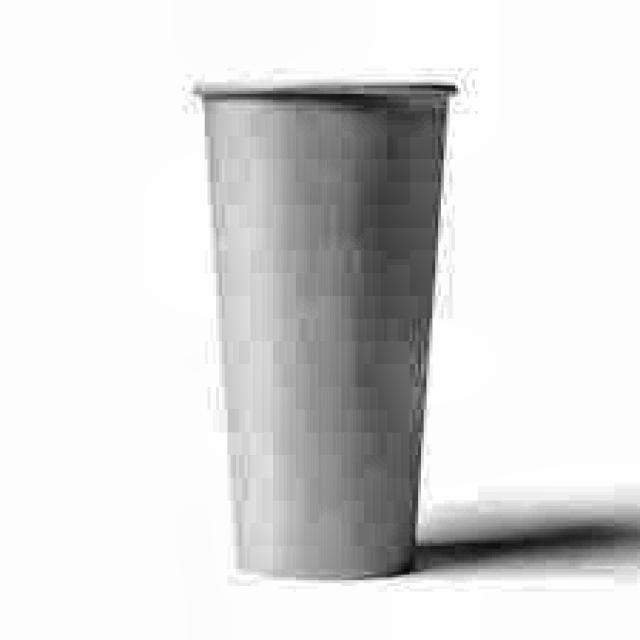Cup: (188, 71, 464, 598)
